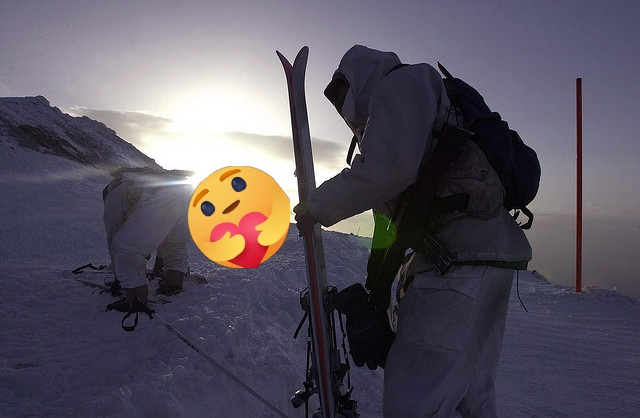care: (188, 166, 290, 268)
